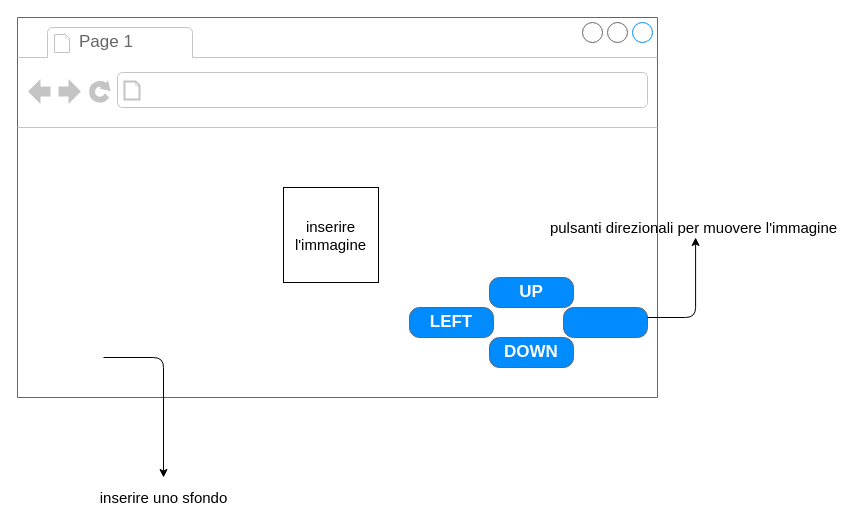
The diagram is 861 pixels wide and 525 high, and some of its shapes have lost their labels. Here are the shapes that lost their labels. From the top down, the centre of each, then its label:
At pixel 272 90: "https://www.draw.io".
At pixel 605 322: "RIGHT".
